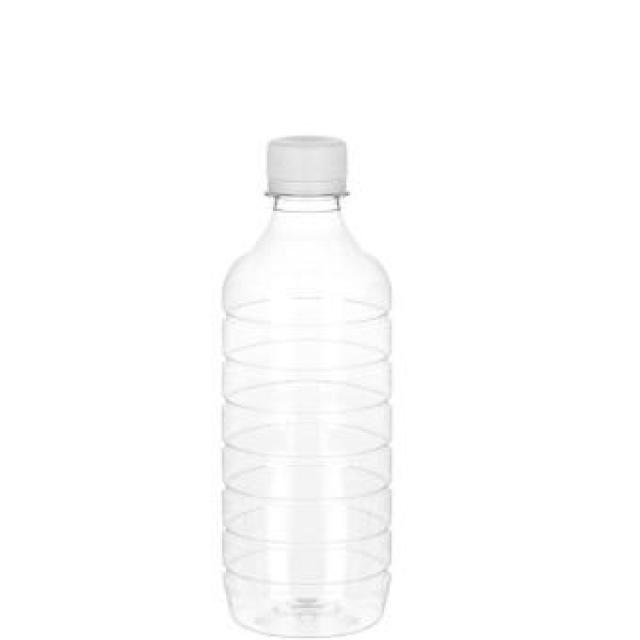bottle: (216, 133, 390, 635)
